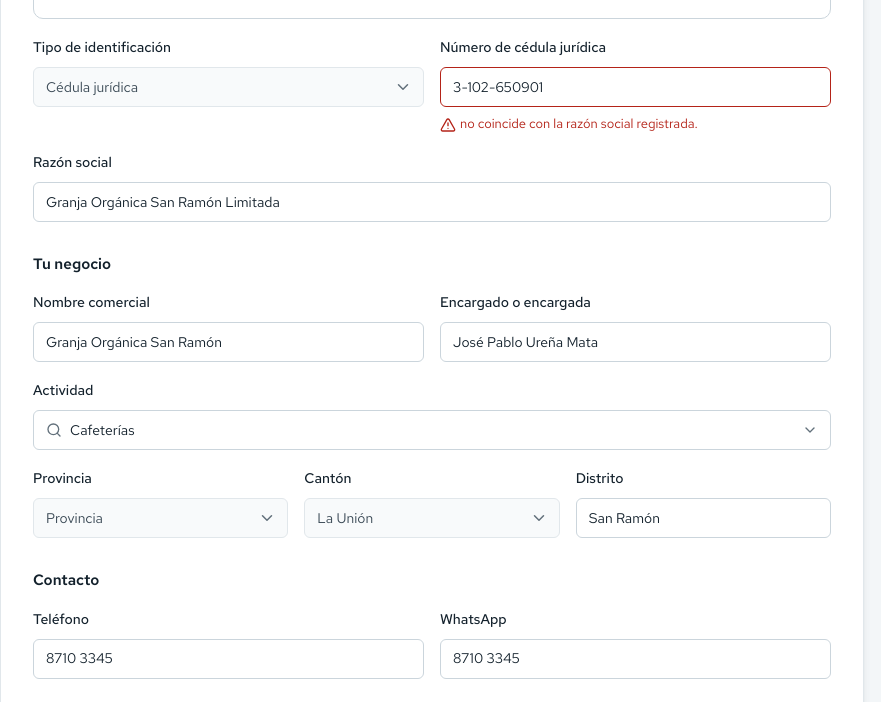
the correction screen › refuses a correction that lost a required field
The width and height of the screenshot is (881, 702).
(page scrolled)
Step 1. Clear the field labelled "Nombre comercial" → (228, 342), box [33, 322, 424, 362]
(page scrolled)
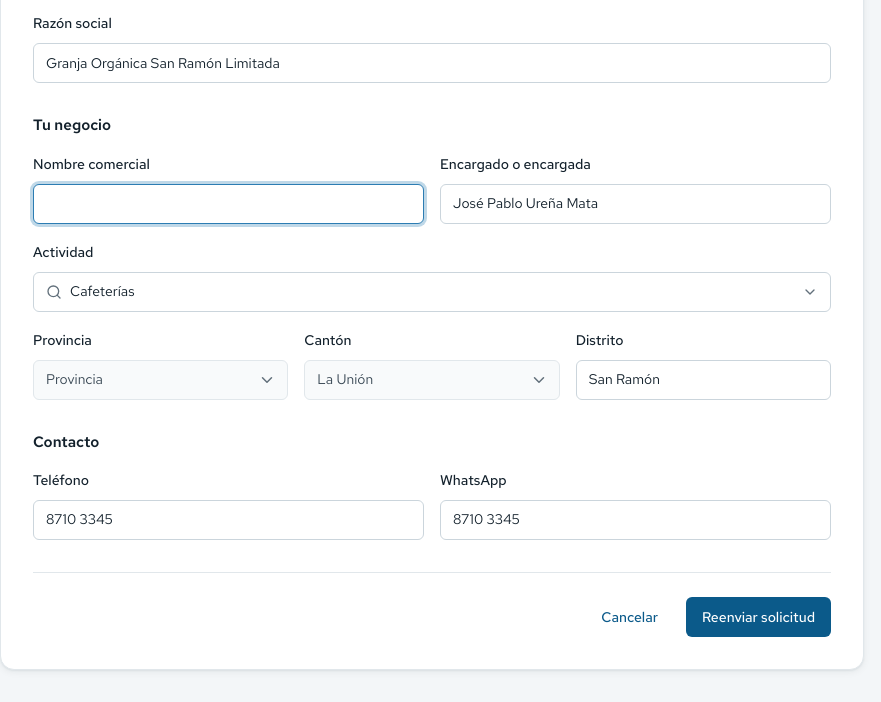
Step 2. Click the button "Reenviar solicitud" → (758, 617), box [686, 597, 831, 637]
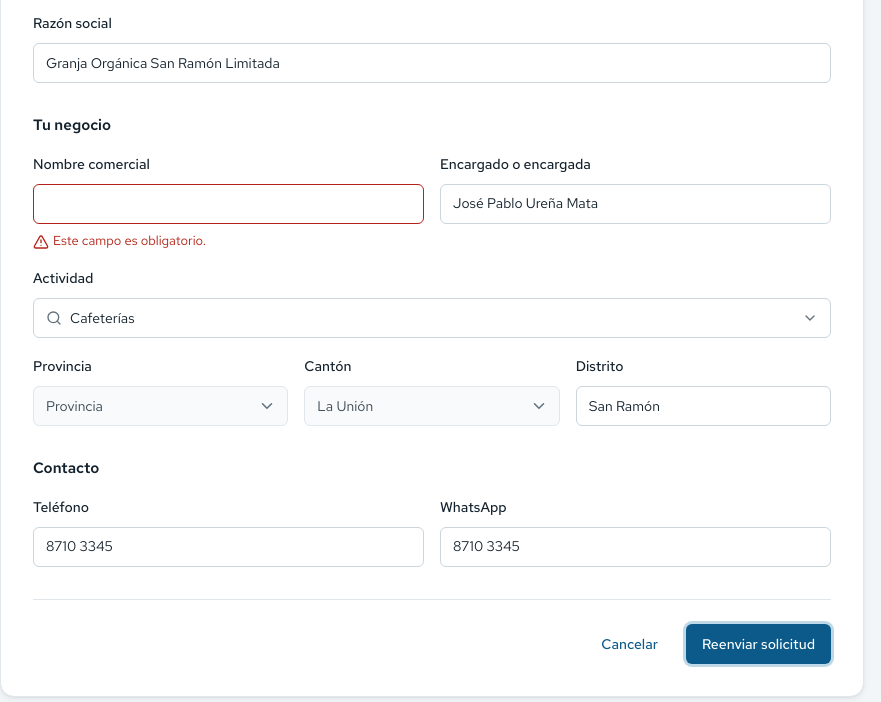
Now the text "Este campo es obligatorio." is shown, box [33, 232, 206, 250]
